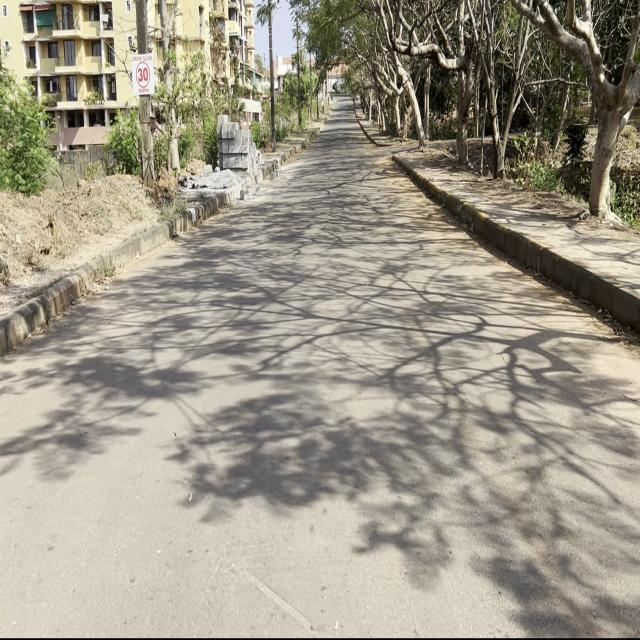Road: (0, 103, 640, 640)
